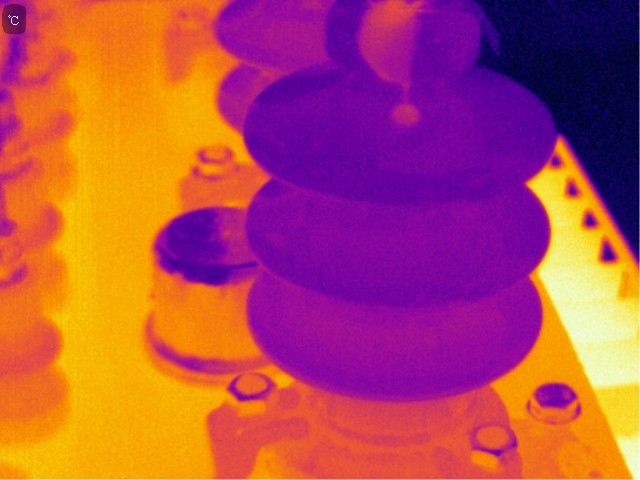Oil: (358, 1, 428, 91), (389, 100, 423, 127)
